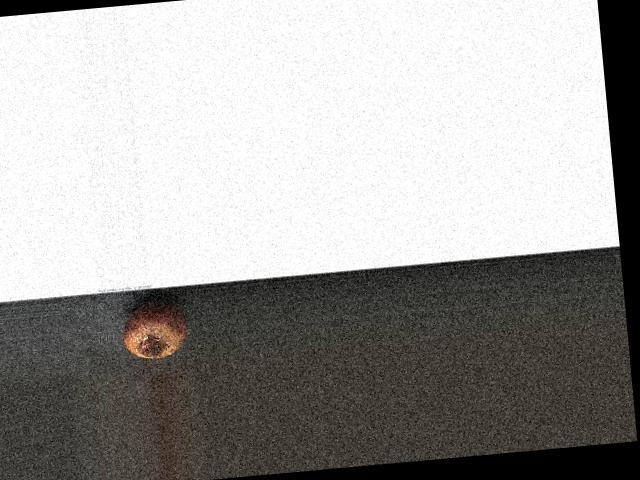beet: (121, 299, 191, 360)
